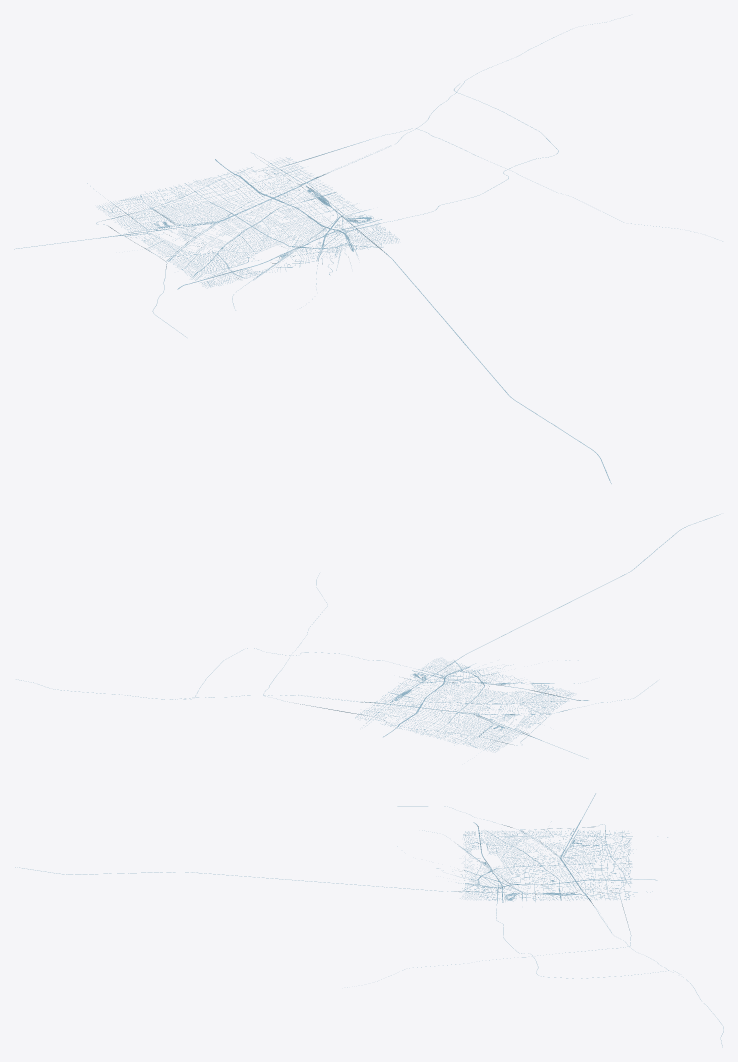
File: roads.glb
3 views of the same model, one above another, from view 1: azimuth 30°, elevation 25°; view 2: azimuth 150°, elevation 25°; view 3: azimuth 270°, elevation 25° (orthographic). The views are drawn at different scales.
Parts seen in each view (by area): view 1: roads; view 2: roads; view 3: roads.
Part boxes in pixels (bbox=[...]): roads: bbox=[14, 15, 722, 483]; roads: bbox=[16, 514, 720, 758]; roads: bbox=[15, 793, 723, 1047].
Size of the model in its own units: 20996 by 90.35 by 24670.
